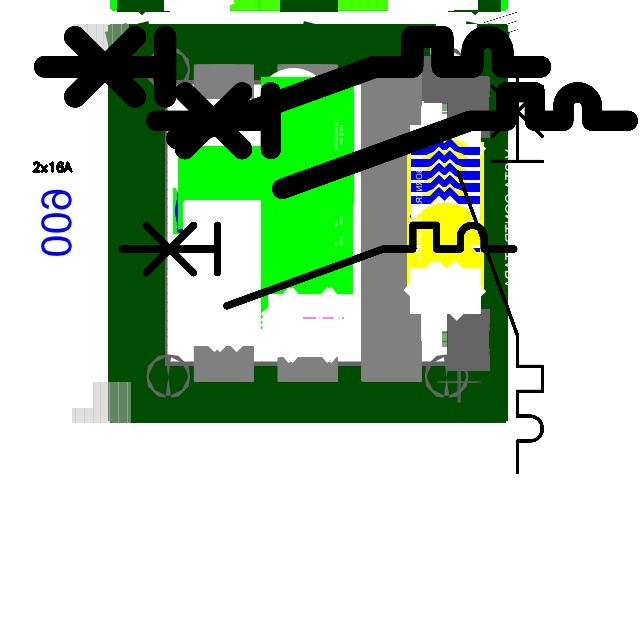interruptor_termomagnetico: (32, 24, 553, 151), (144, 80, 640, 201), (447, 50, 553, 482), (112, 215, 524, 316)
